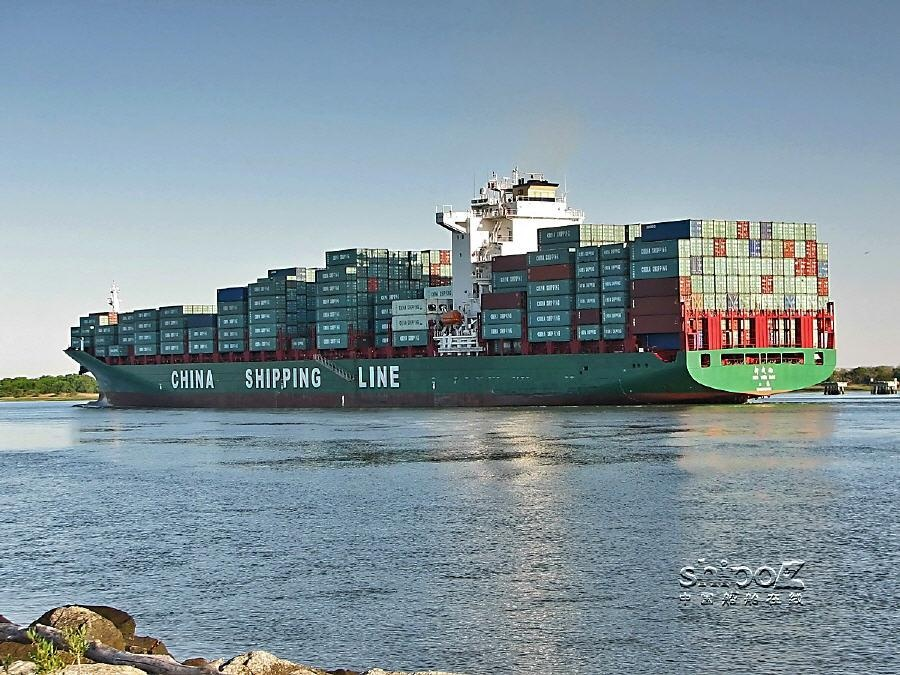Cargoship: (60, 154, 839, 413)
